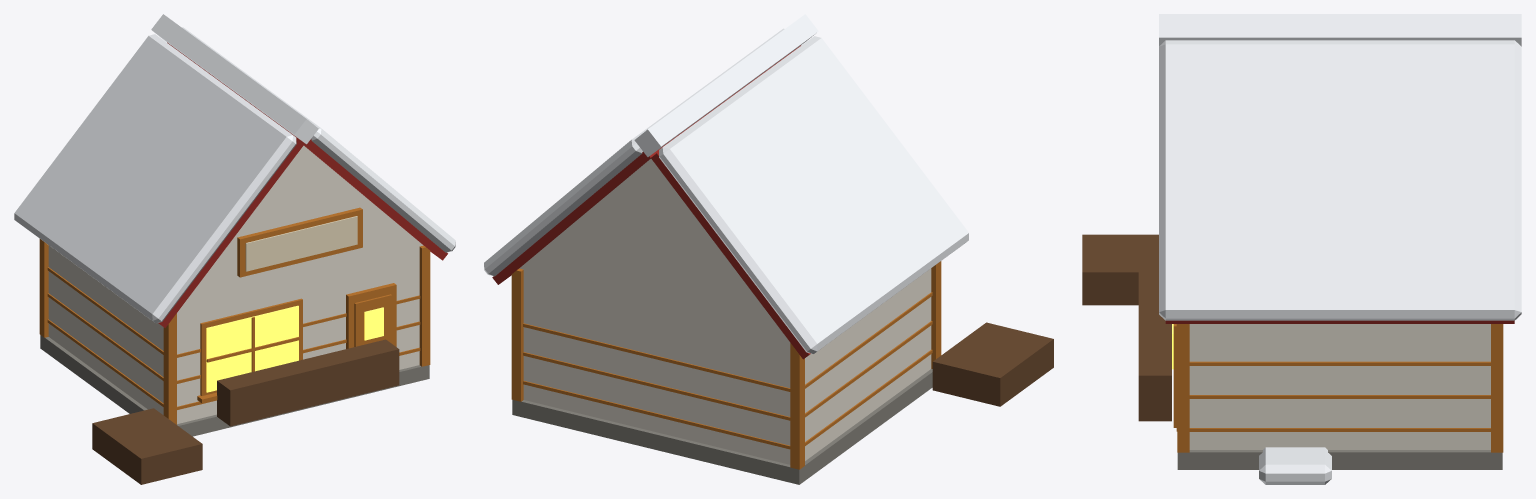
Rendered from rental-shop-sugarhouse.glb.
3 views of the same model, side by side, from view 1: azimuth 30°, elevation 25°; view 2: azimuth 150°, elevation 25°; view 3: azimuth 270°, elevation 25° (orthographic). The views are drawn at different scales.
Visible parts, largest first — view 1: rental-shop-sugarhouse; view 2: rental-shop-sugarhouse; view 3: rental-shop-sugarhouse.
Boxes of the visible parts, x1=… form: rental-shop-sugarhouse: x1=14, y1=14, x2=455, y2=484; rental-shop-sugarhouse: x1=484, y1=14, x2=1053, y2=484; rental-shop-sugarhouse: x1=1082, y1=14, x2=1521, y2=484.
Size of the model in its own units: 9.25 by 7.4 by 7.84.
